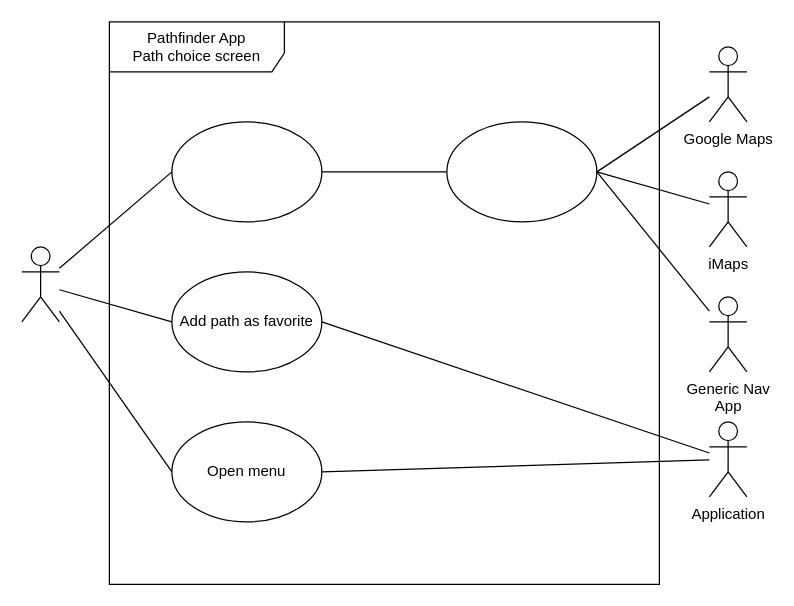
Image size: 794x606. Some labels were removed from this diagram. The shapes that lost their labels are listed below. From the top down, each one's centre as x and y in pixels, then its label:
At (246,171): "Pick a path".
At (521,171): "Redirection".
At (40,284): "User".
